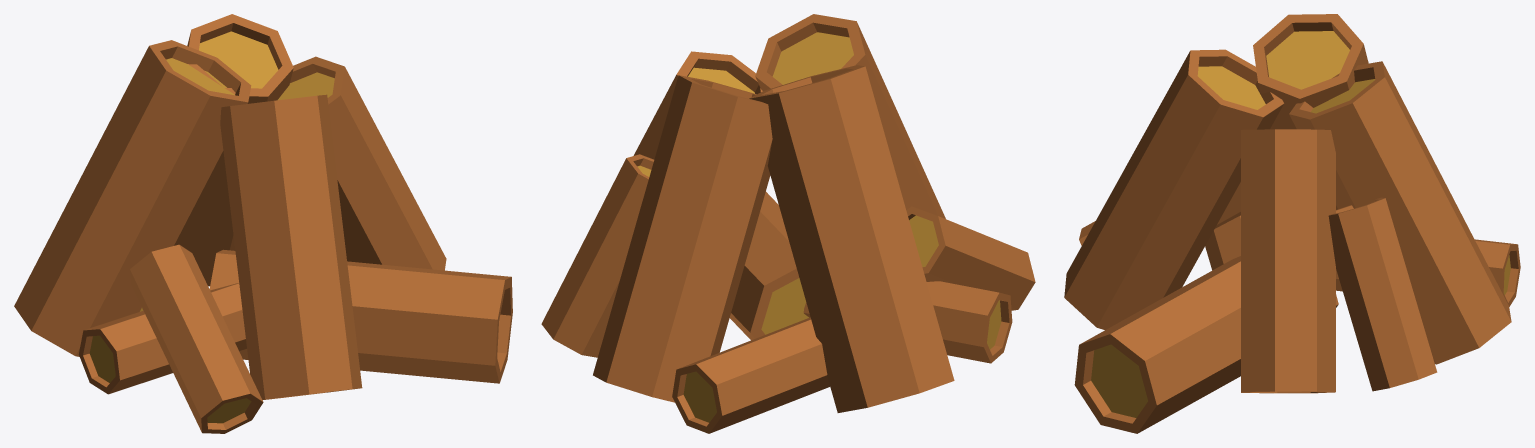
The model's file is campfire without rock.glb.
The picture shows the model from 3 angles, left to right: view 1: azimuth 30°, elevation 25°; view 2: azimuth 150°, elevation 25°; view 3: azimuth 270°, elevation 25°; orthographic projection. The views are drawn at different scales.
Visible parts, largest first — view 1: Cylinder; view 2: Cylinder; view 3: Cylinder.
Part boxes in pixels (x1,y1,x2,y2): Cylinder: (14,14,512,433); Cylinder: (541,14,1035,433); Cylinder: (1064,14,1520,433).
Bounding box in the file's own units: 2.73 × 2.05 × 2.82.
